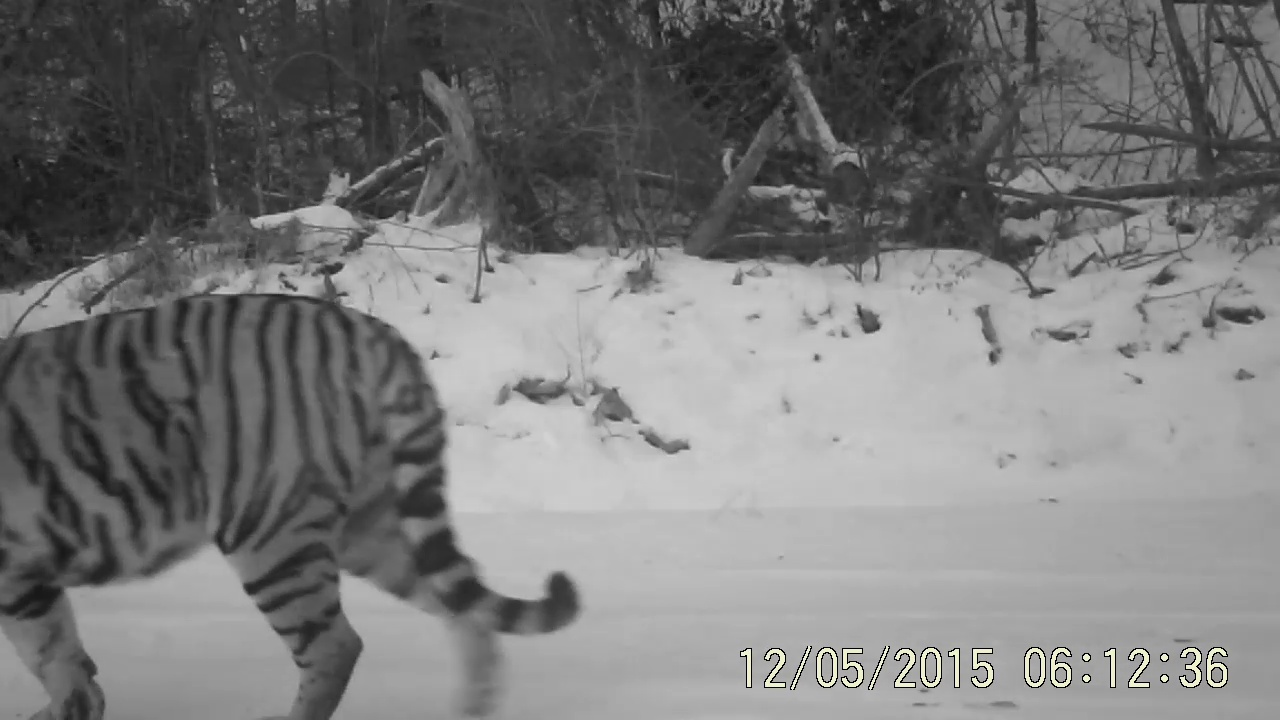Tiger: (1, 265, 596, 718)
